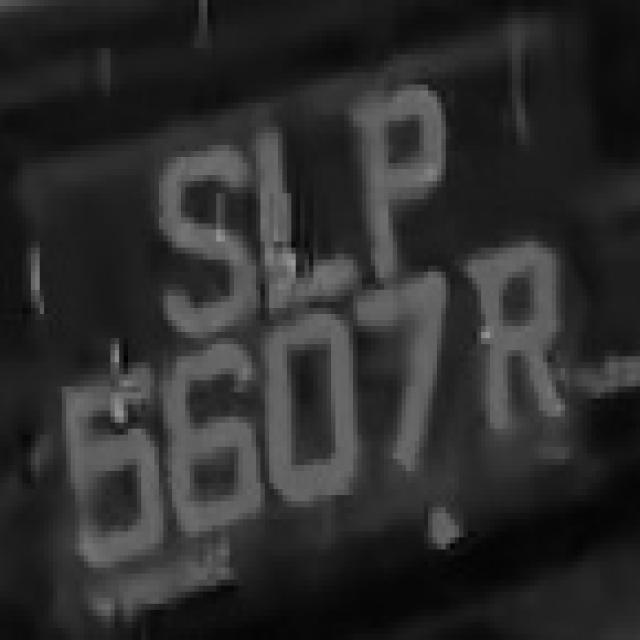0: (234, 296, 375, 525)
5: (44, 362, 172, 556)
6: (150, 332, 274, 568)
7: (327, 260, 459, 483)
L: (247, 97, 375, 314)
P: (344, 72, 455, 278)
R: (450, 229, 583, 453)
S: (132, 139, 252, 332)
